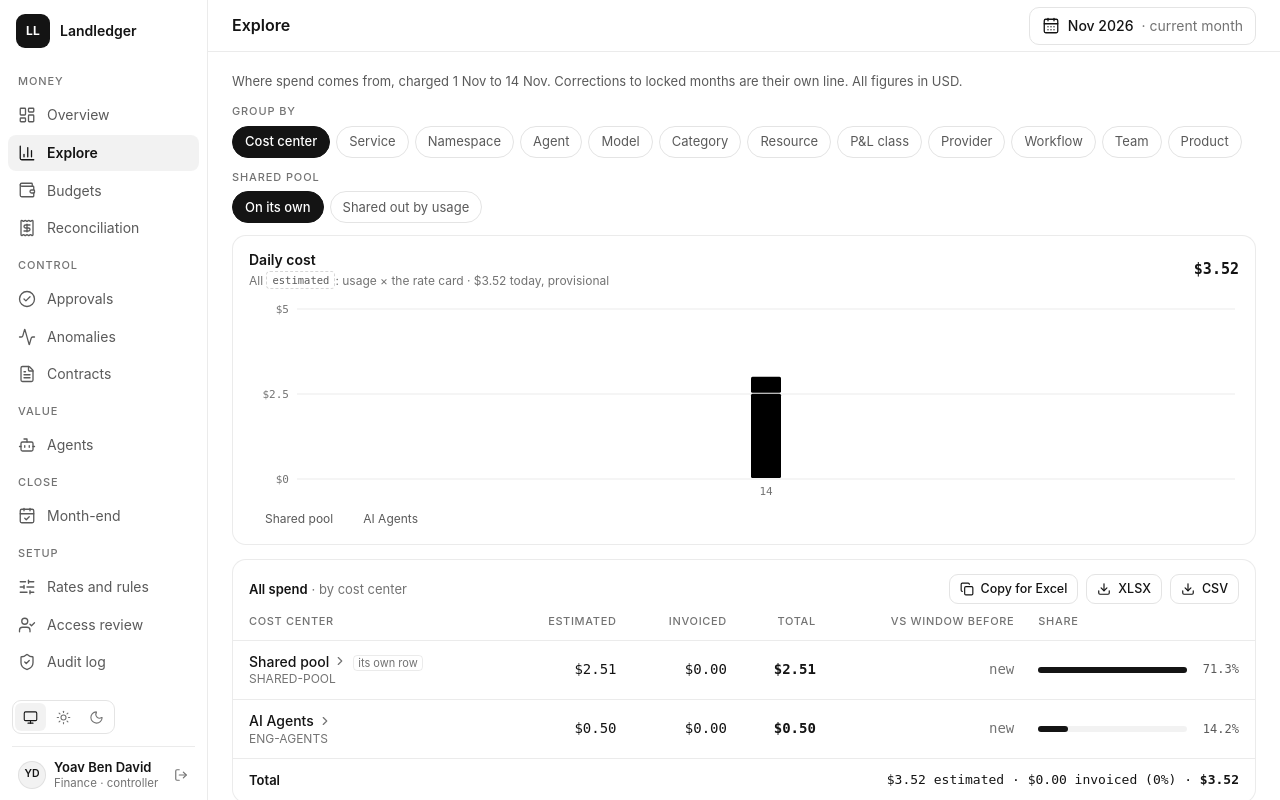
Test case: Explore › groups by cost center, then drills into a row by service
The image size is (1280, 800).
expect the text "its own row" is shown: met, box [353, 654, 423, 670]
Click the button "AI Agents".
click(290, 721)  # box [249, 711, 332, 730]
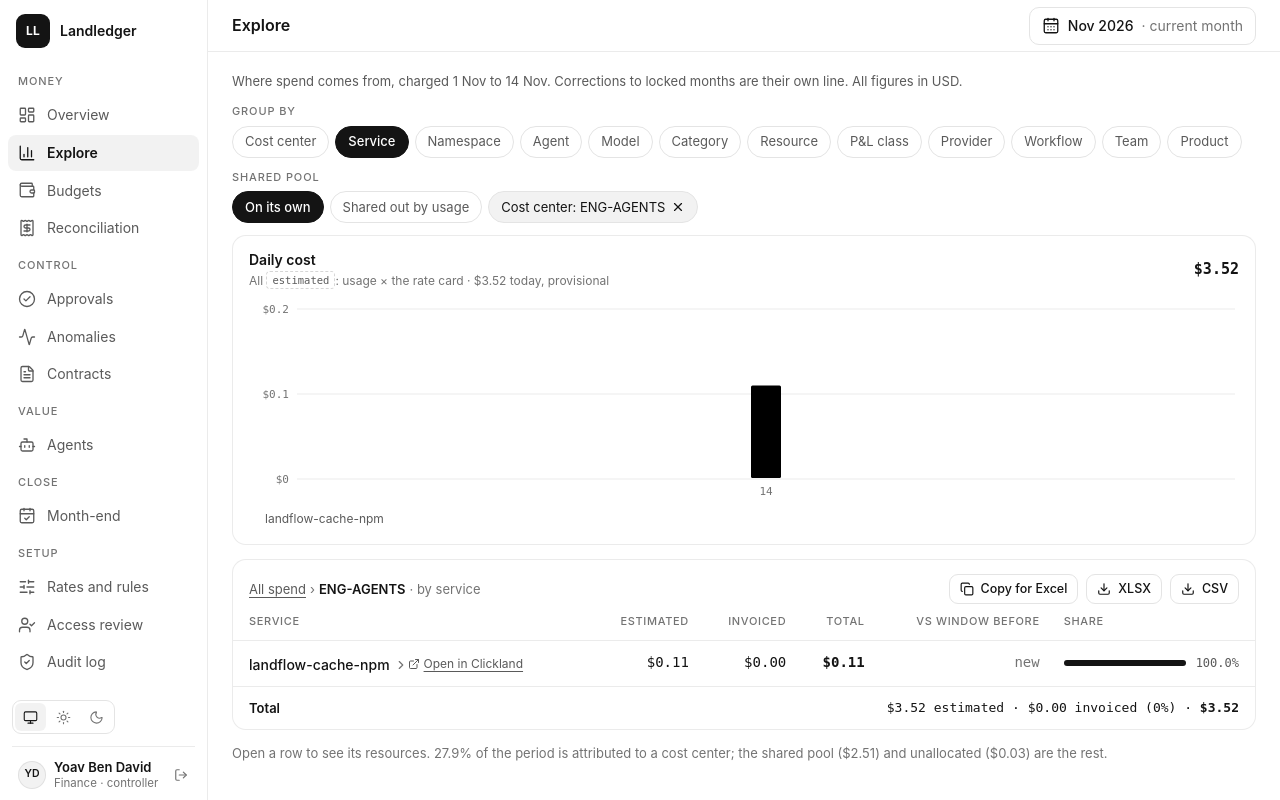
expect the link "Open in Clickland" is shown: met, box [408, 656, 523, 672]
